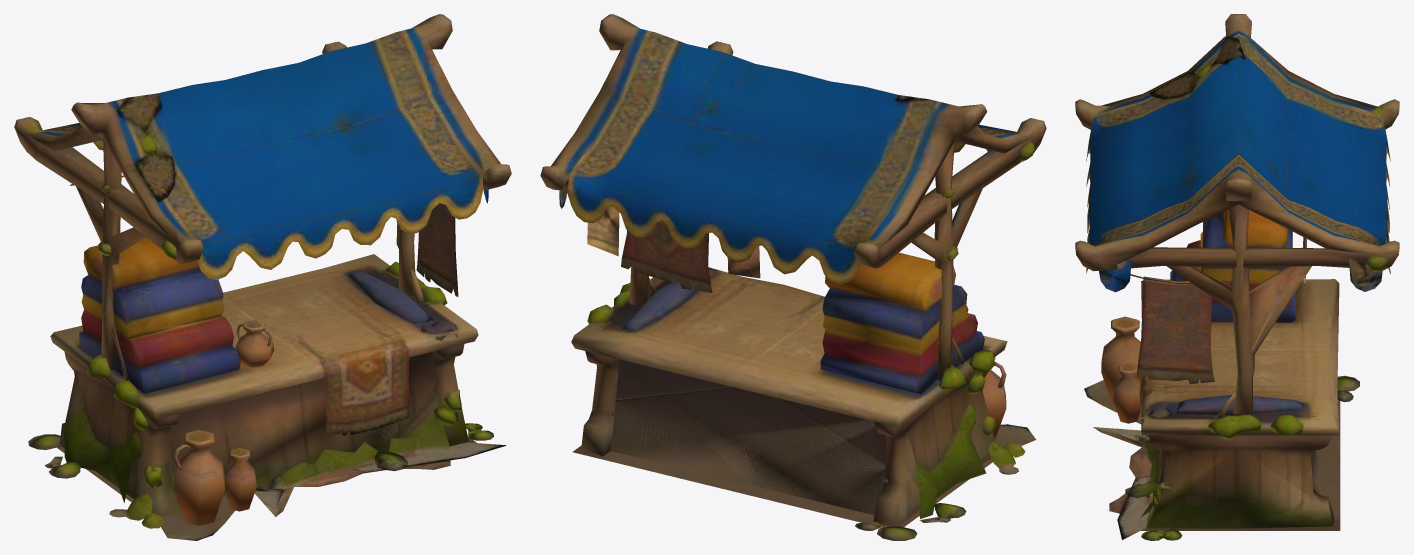
Rendered from civic_market_stall_cloth.glb.
The picture shows the model from 3 angles, left to right: view 1: azimuth 30°, elevation 25°; view 2: azimuth 150°, elevation 25°; view 3: azimuth 270°, elevation 25°; orthographic projection. The views are drawn at different scales.
Visible parts, largest first — view 1: tripo_node_5d5fcc37-84e5-4db1-9570-de68024fbc6d; view 2: tripo_node_5d5fcc37-84e5-4db1-9570-de68024fbc6d; view 3: tripo_node_5d5fcc37-84e5-4db1-9570-de68024fbc6d.
Boxes of the visible parts, x1,y1,x2,y2 form: tripo_node_5d5fcc37-84e5-4db1-9570-de68024fbc6d: (14,14,511,540); tripo_node_5d5fcc37-84e5-4db1-9570-de68024fbc6d: (540,14,1046,540); tripo_node_5d5fcc37-84e5-4db1-9570-de68024fbc6d: (1075,14,1399,540).
Bounding box in the file's own units: 3.26 × 3.2 × 2.61.
1 material, 1 textured.
